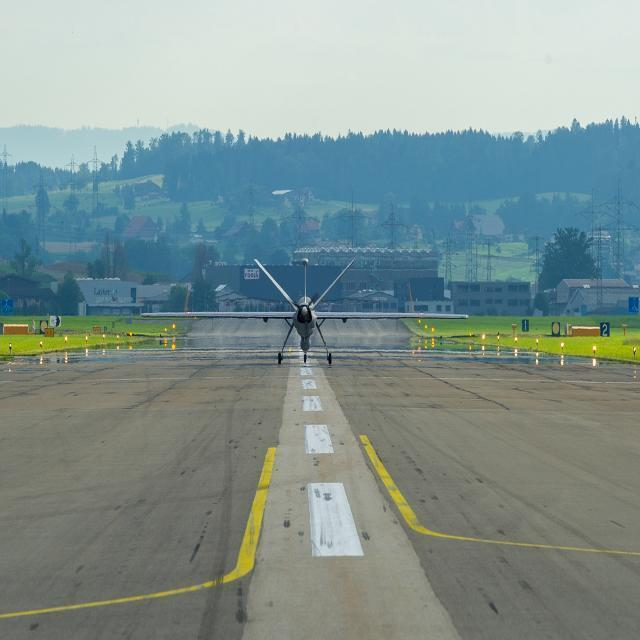iha: (128, 249, 472, 381)
